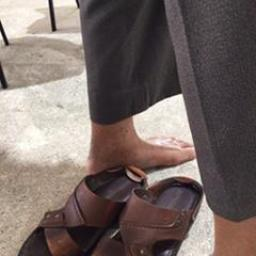Medial View -Left Foot-: (80, 115, 201, 173)
